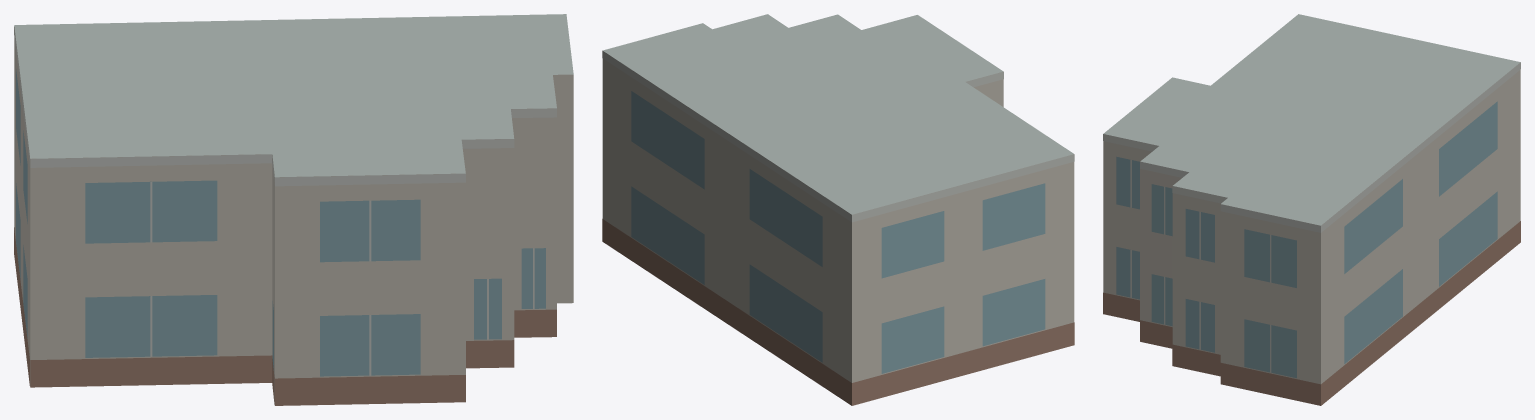
File: survey-upis-33005484.glb
The picture shows the model from 3 angles, left to right: view 1: azimuth 30°, elevation 25°; view 2: azimuth 150°, elevation 25°; view 3: azimuth 270°, elevation 25°; orthographic projection. The views are drawn at different scales.
Parts seen in each view (by area): view 1: survey-upis-33005484.tmp; view 2: survey-upis-33005484.tmp; view 3: survey-upis-33005484.tmp.
Boxes of the visible parts, box(x1,y1,x2,y2) form: survey-upis-33005484.tmp: box(14, 14, 573, 405); survey-upis-33005484.tmp: box(602, 14, 1074, 405); survey-upis-33005484.tmp: box(1103, 14, 1520, 405).
Bounding box in the file's own units: 15.38 × 6.1 × 12.83.
